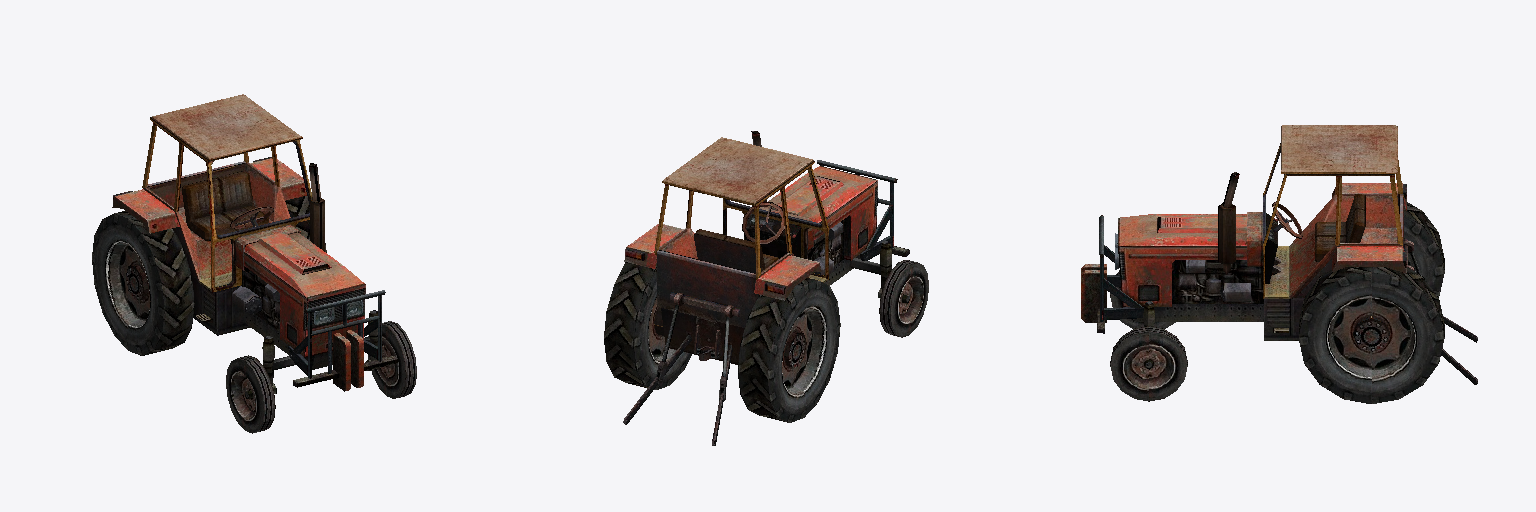
The picture shows the model from 3 angles: view 1: azimuth 30°, elevation 25°; view 2: azimuth 150°, elevation 25°; view 3: azimuth 270°, elevation 25°; orthographic projection.
Parts seen in each view (by area): view 1: tractor_Mesh; view 2: tractor_Mesh; view 3: tractor_Mesh.
Part boxes in pixels (left/top/right/bottom): tractor_Mesh: left=92, top=94, right=416, bottom=433; tractor_Mesh: left=604, top=131, right=928, bottom=445; tractor_Mesh: left=1081, top=125, right=1477, bottom=403.
Bounding box in the file's own units: 2.08 × 2.56 × 4.24.
Materials: 1 (1 with a texture image).